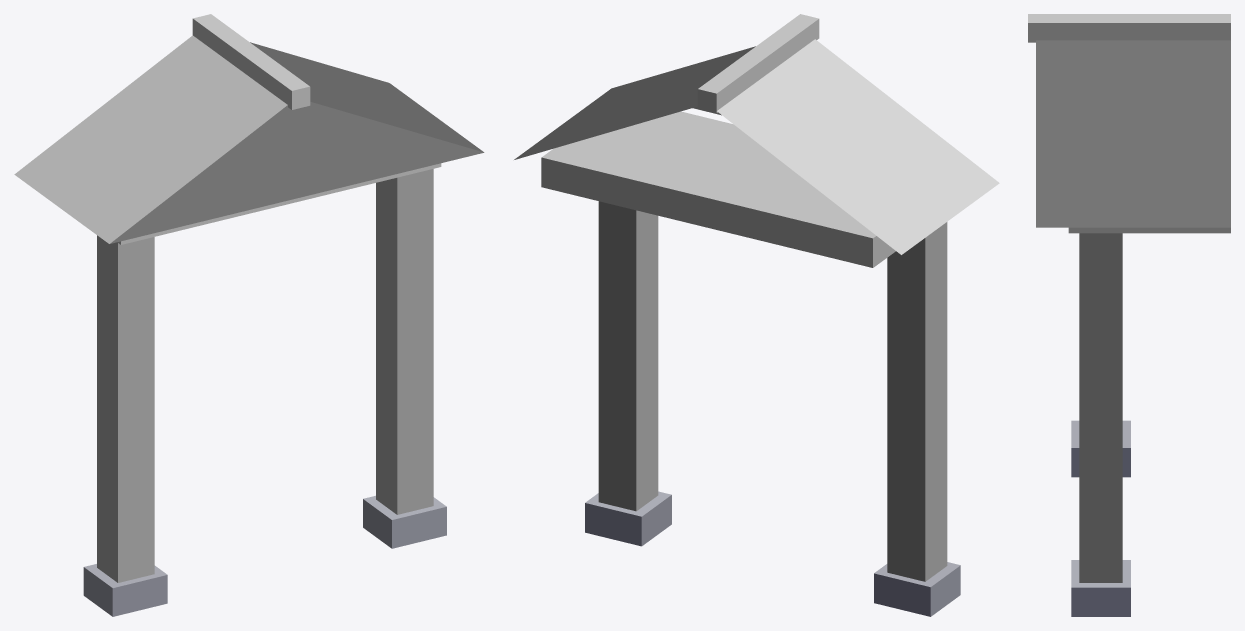
Rendered from bld_porch.glb.
3 renders of one model, left to right at view 1: azimuth 30°, elevation 25°; view 2: azimuth 150°, elevation 25°; view 3: azimuth 270°, elevation 25°, orthographic. The views are drawn at different scales.
Visible parts, largest first — view 1: bld_porch; view 2: bld_porch; view 3: bld_porch.
Part boxes in pixels (box(x1,y1,x2,y2)): bld_porch: box(14, 14, 484, 616); bld_porch: box(514, 14, 999, 616); bld_porch: box(1028, 14, 1230, 616).
Bounding box in the file's own units: 1.02 × 1.31 × 0.4688.
